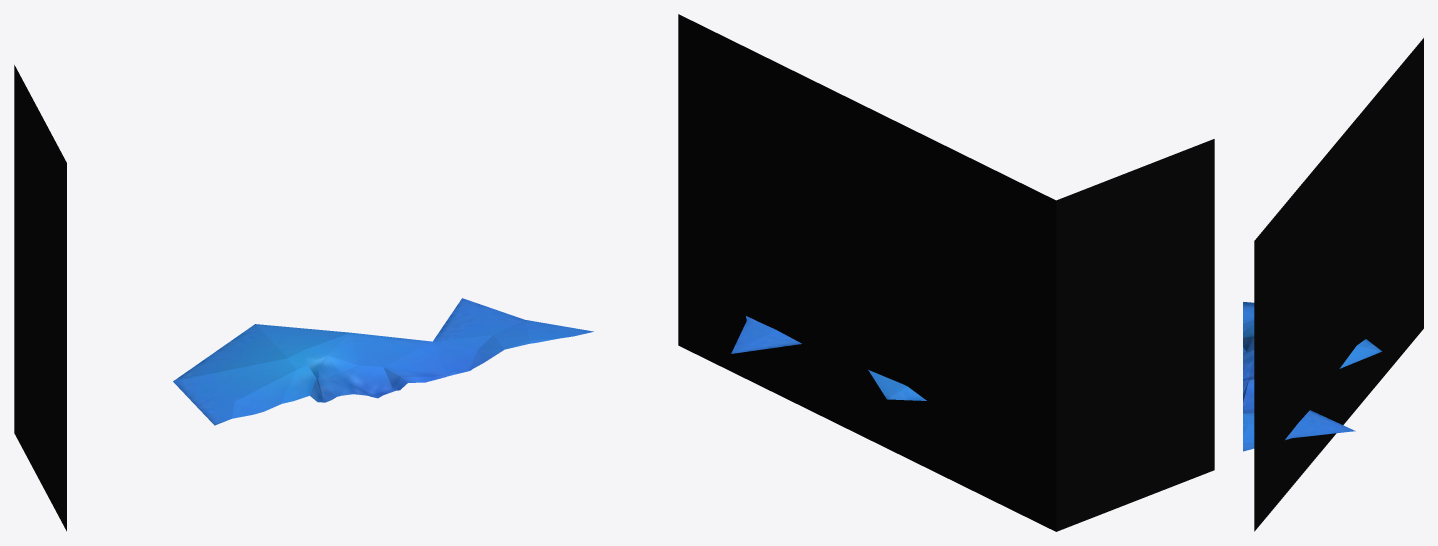
The picture shows the model from 3 angles, left to right: view 1: azimuth 30°, elevation 25°; view 2: azimuth 150°, elevation 25°; view 3: azimuth 270°, elevation 25°; orthographic projection. The views are drawn at different scales.
Bounding box in the file's own units: 15.06 × 9 × 5.06.
Materials: 2 (2 with a texture image).
